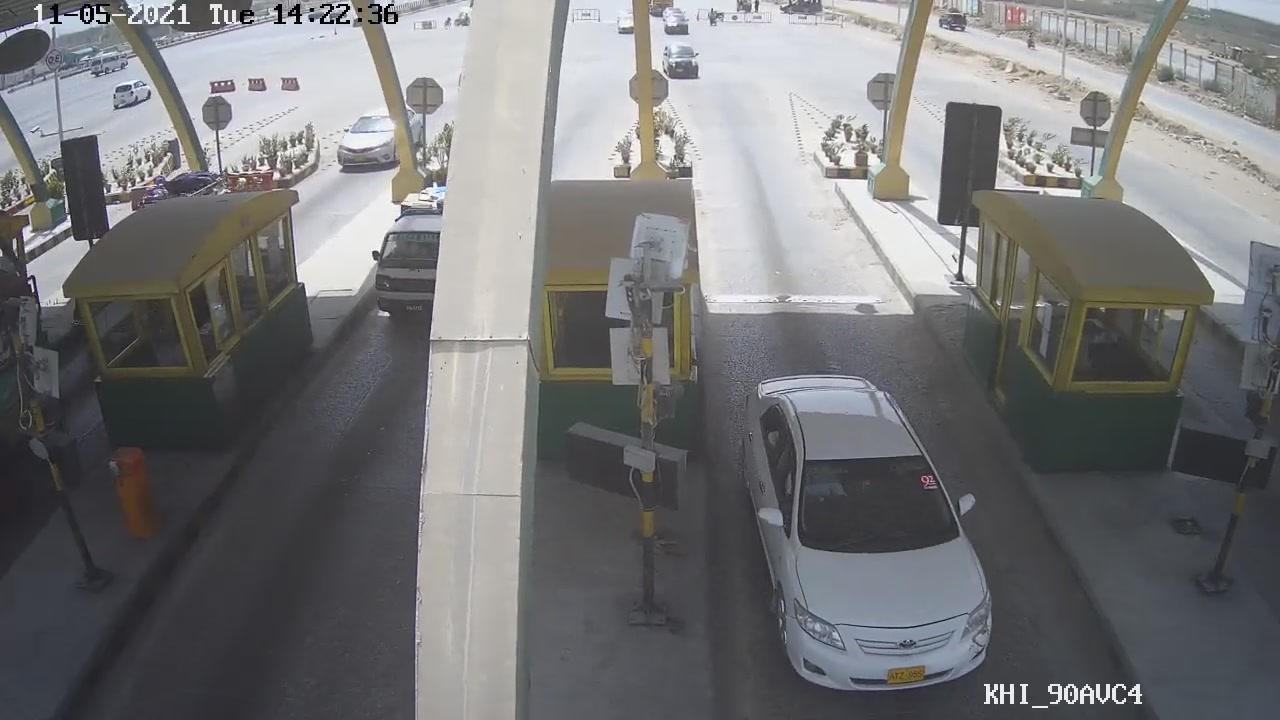F1: (733, 370, 998, 701)
